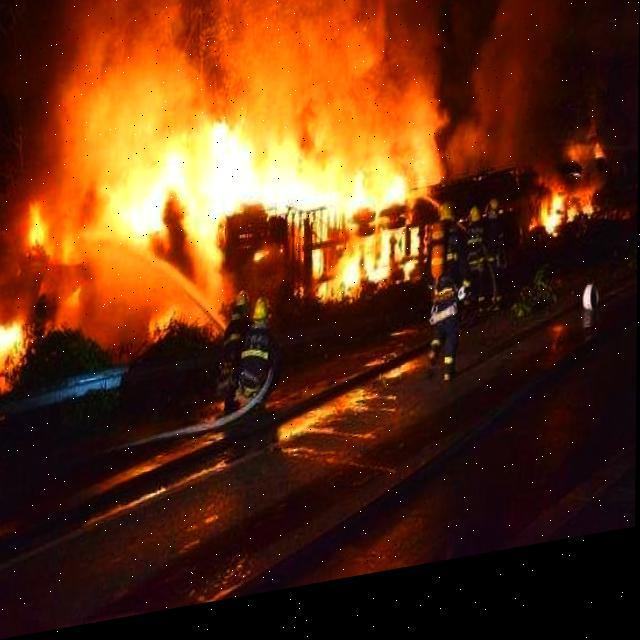Fire: (29, 41, 440, 348), (532, 162, 604, 258)
